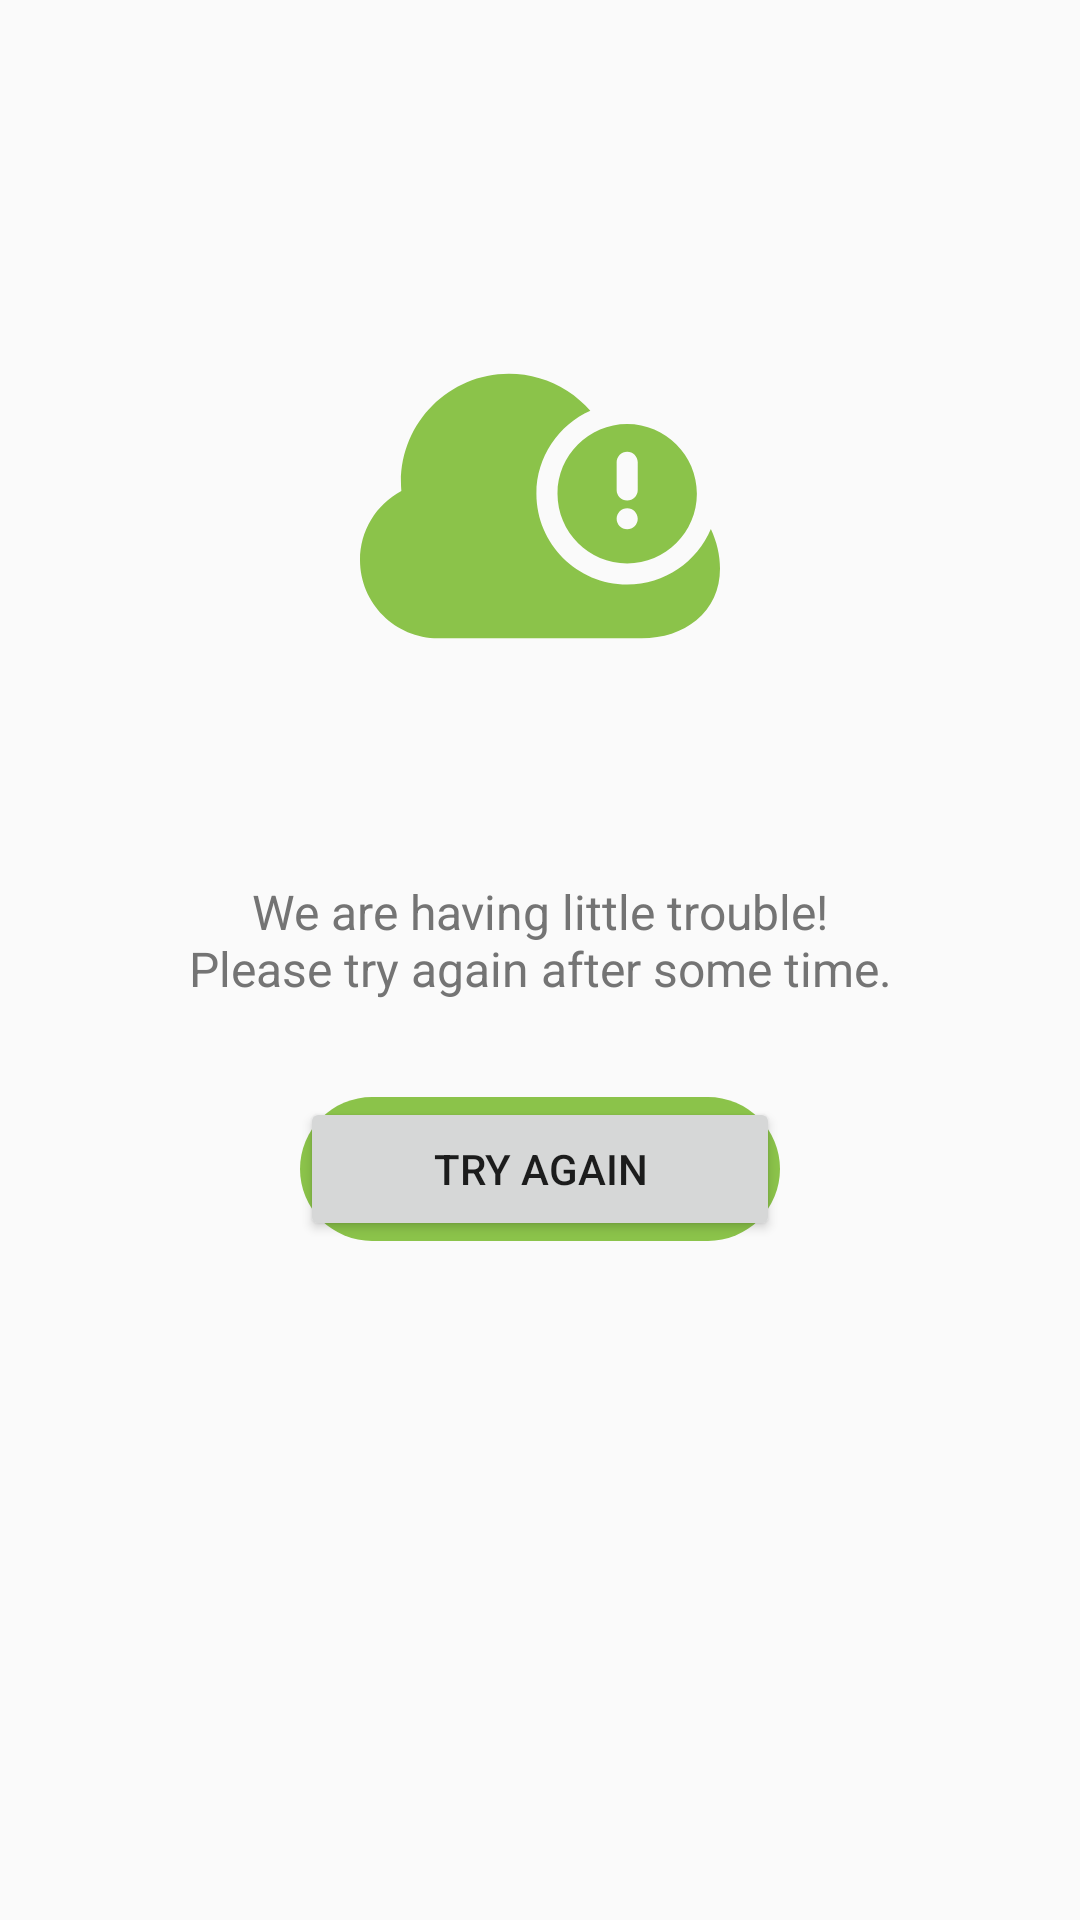

Point at icon controls on the screen. Image size 1080px x 1920px, points as [x,y].
network error: [540,506]
